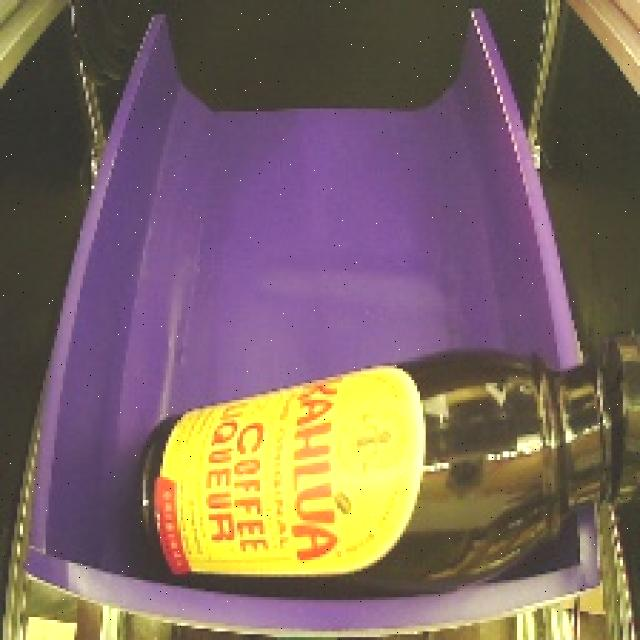plastic: (102, 308, 640, 611)
